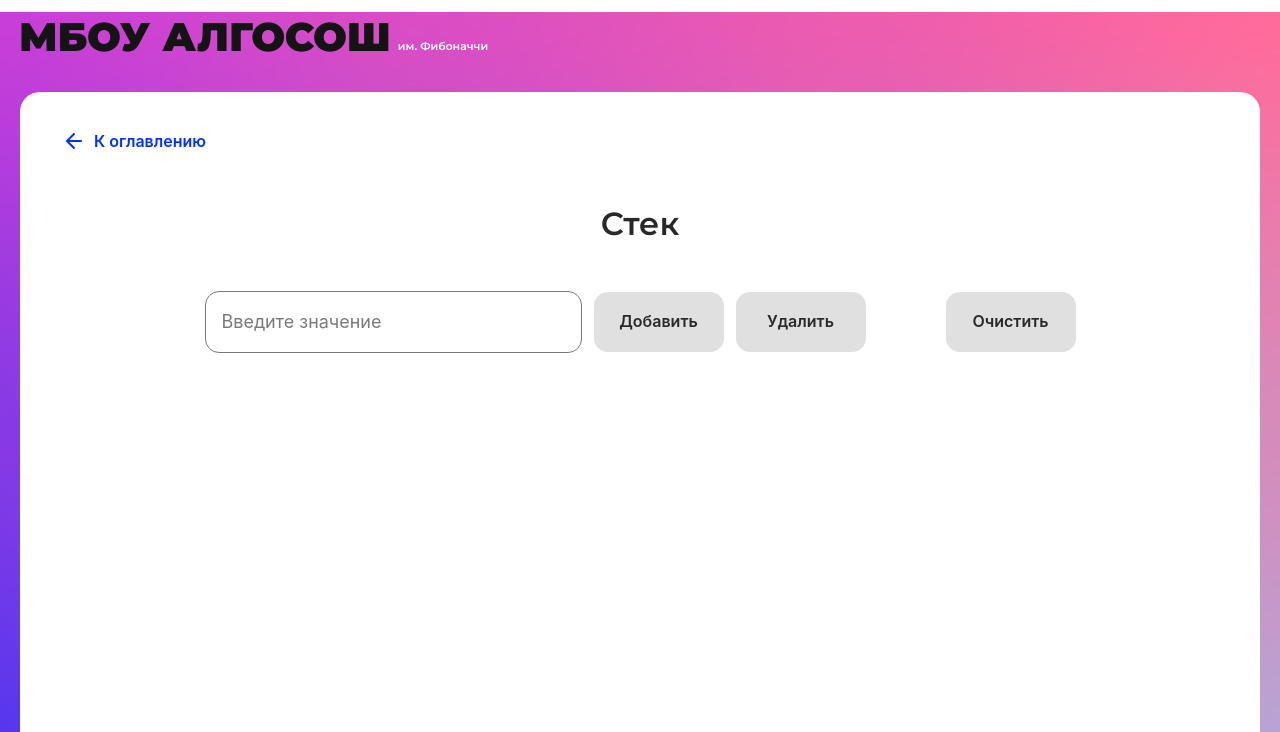
Test: Тестирование страницы 'Стек' › Проверка условия - при пустом поле ввода кнопка добавления неактивна
The width and height of the screenshot is (1280, 732).
Expected: the button with test id "add" is disabled, [594, 292, 724, 352]
In the field with test id "valueInput": (394, 322) [205, 291, 582, 353], type "1"
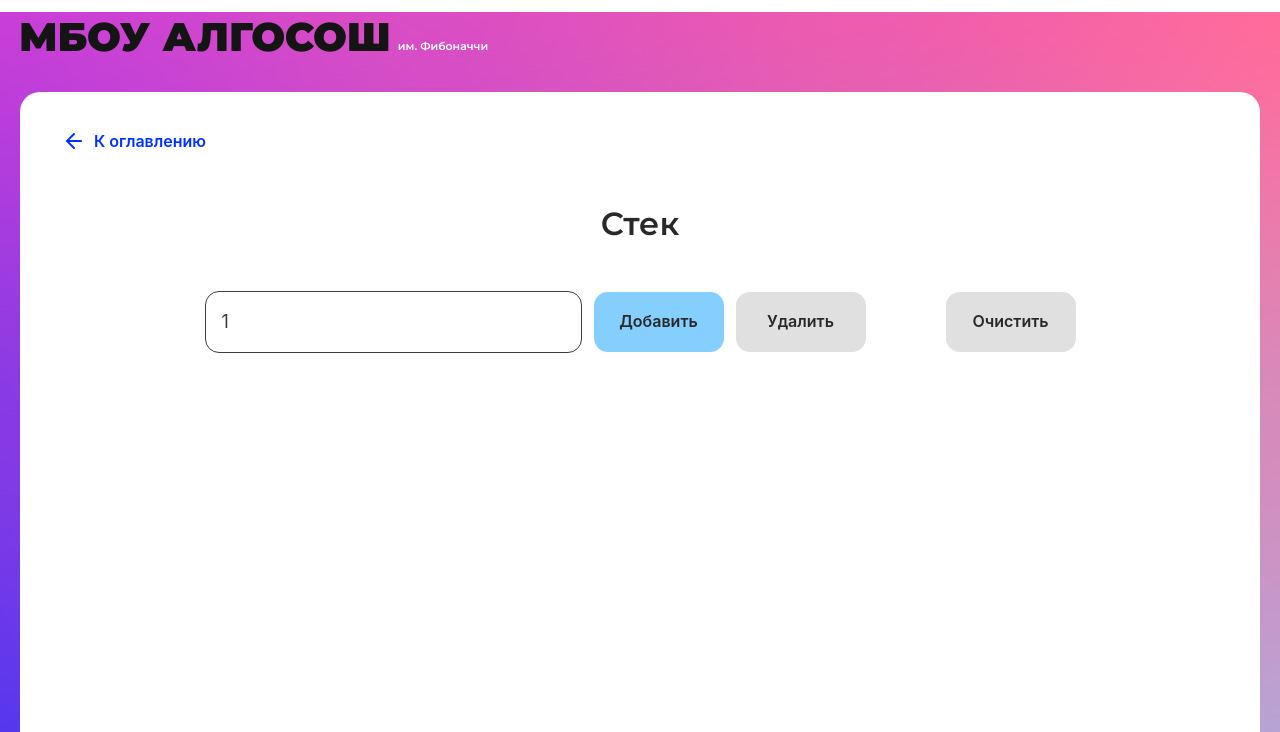
Expected: the element with test id "add" is enabled
Clear the field with test id "valueInput": (394, 322) [205, 291, 582, 353]
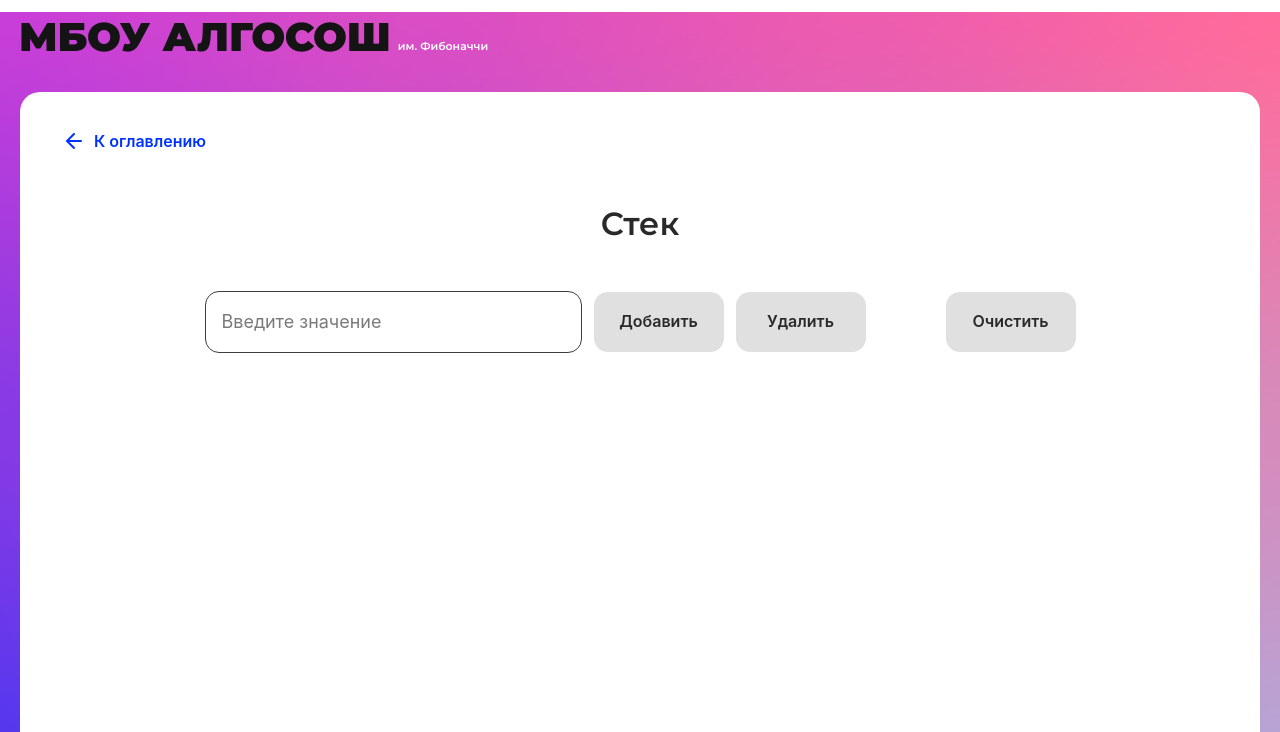
Result: the button with test id "add" is disabled at [594, 292, 724, 352]
